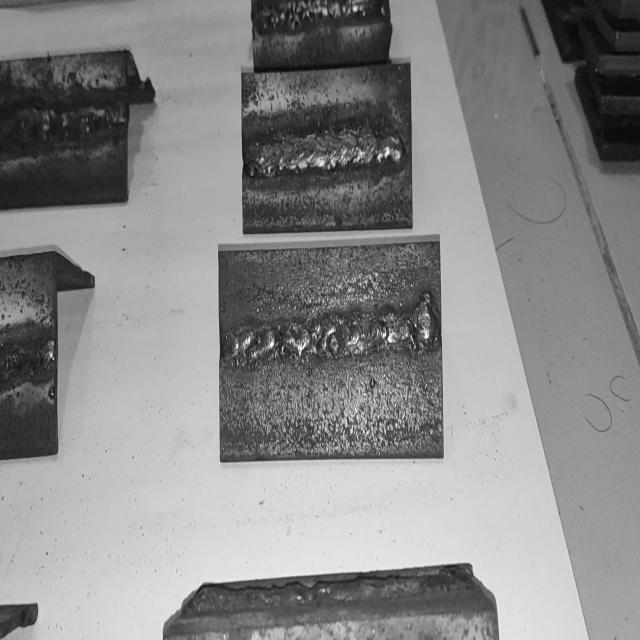Bad Weld: (223, 307, 439, 365), (245, 120, 406, 175), (253, 0, 379, 33), (0, 340, 57, 382)
Defect: (222, 304, 439, 364), (258, 0, 370, 36), (0, 341, 56, 380), (369, 121, 405, 169)
Good Weld: (2, 100, 129, 142)
